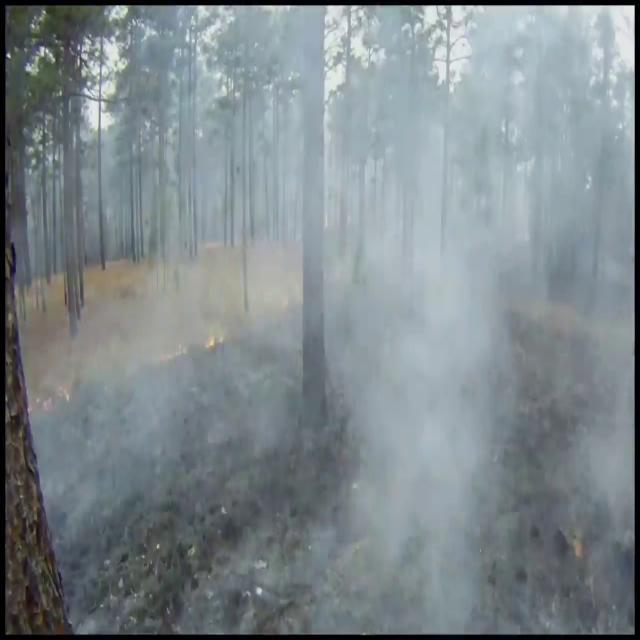Smoke: (20, 9, 630, 636)
